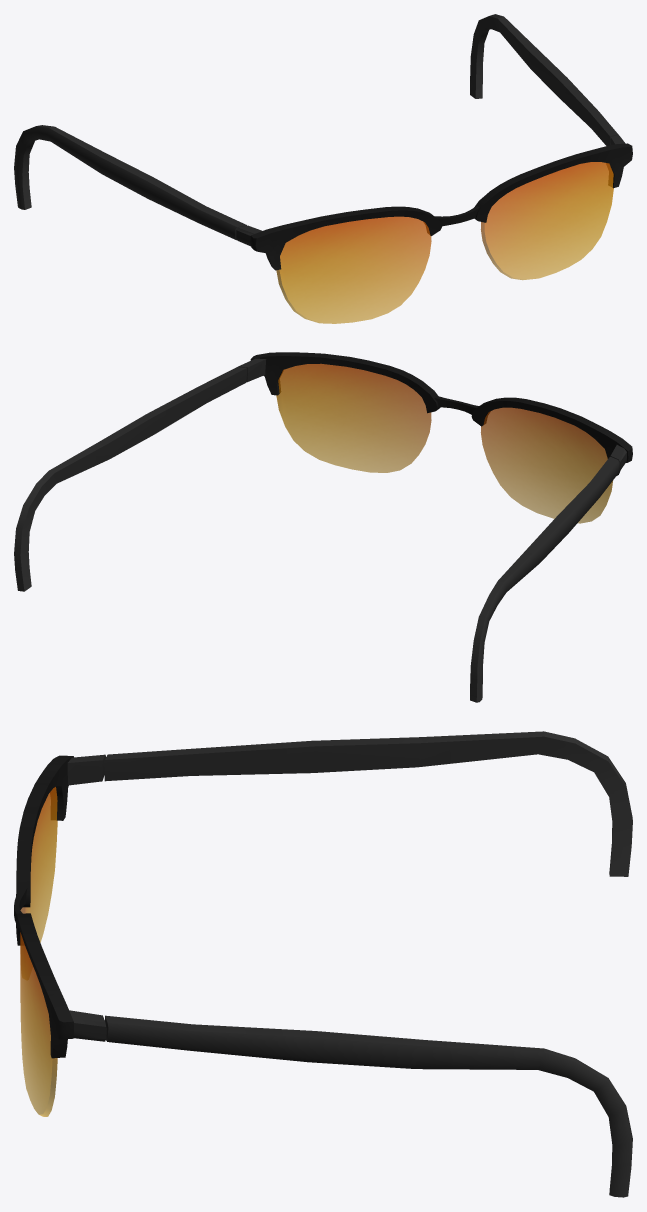
The picture shows the model from 3 angles, top to bottom: view 1: azimuth 30°, elevation 25°; view 2: azimuth 150°, elevation 25°; view 3: azimuth 270°, elevation 25°; orthographic projection. The views are drawn at different scales.
Visible parts, largest first — view 1: Wolf3D_Glasses; view 2: Wolf3D_Glasses; view 3: Wolf3D_Glasses.
Part boxes in pixels (x1,y1,x2,y2): Wolf3D_Glasses: [14, 14, 632, 323]; Wolf3D_Glasses: [14, 352, 632, 702]; Wolf3D_Glasses: [14, 731, 632, 1197].
Bounding box in the file's own units: 0.165 × 0.0379 × 0.1315.
Materials: 1 (1 with a texture image).
